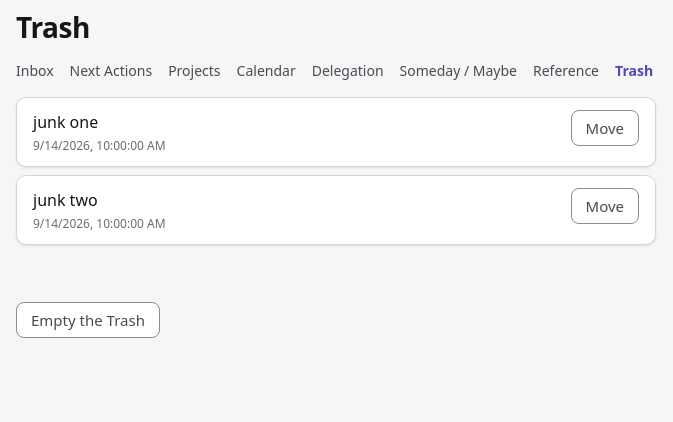
Test: emptying the Trash › says how many and that it cannot be undone before discarding
Expected: the text "junk one" is shown, [33,111,98,133]
Click the button "Empty the Trash" at (88, 320), box [16,302,160,338]
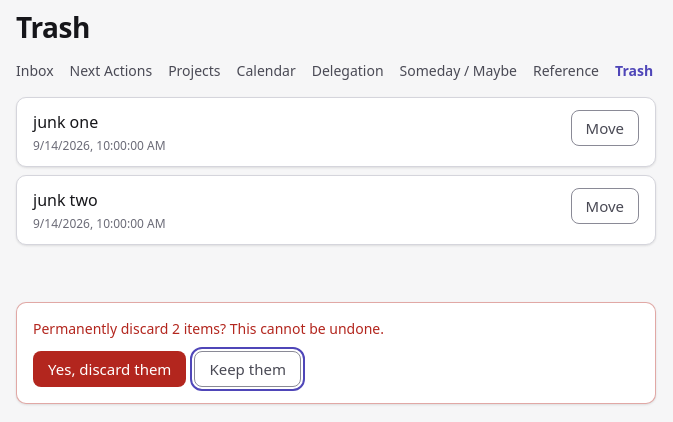
Expected: the message named "discard confirmation" shows "2 items", [33,319,384,338]
Expected: the message named "discard confirmation" shows "cannot be undone", [220,319,384,338]
